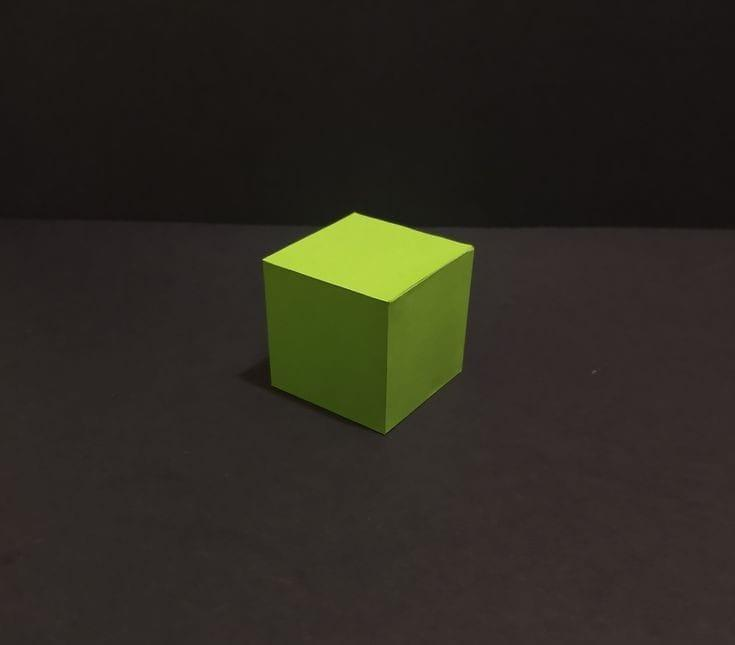cubos: (250, 205, 492, 447)
